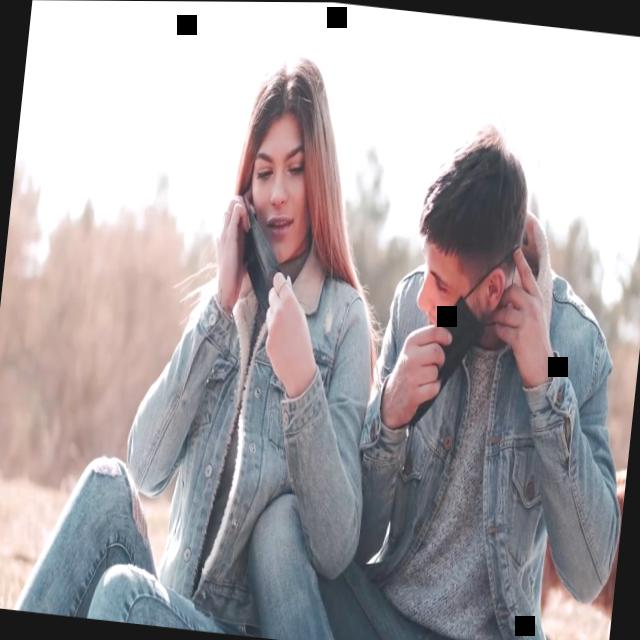NO-Mask: (244, 128, 319, 269), (411, 236, 496, 357)
